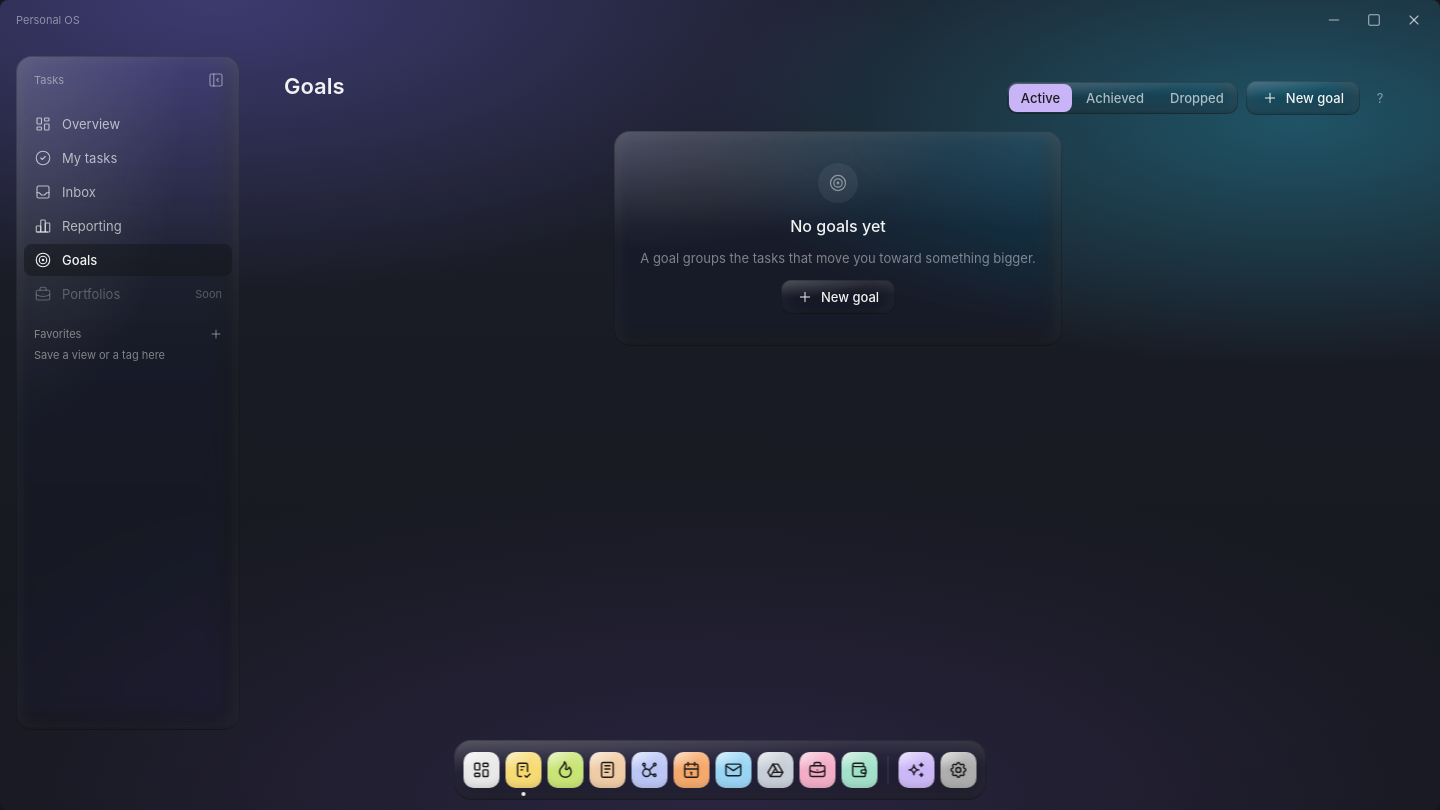
Test case: New goal dialog › refuses an empty title
Expected: the heading "No goals yet" is shown, [790,215,886,237]
Click the 1st button "New goal": (1303, 98) [1246,81,1360,115]
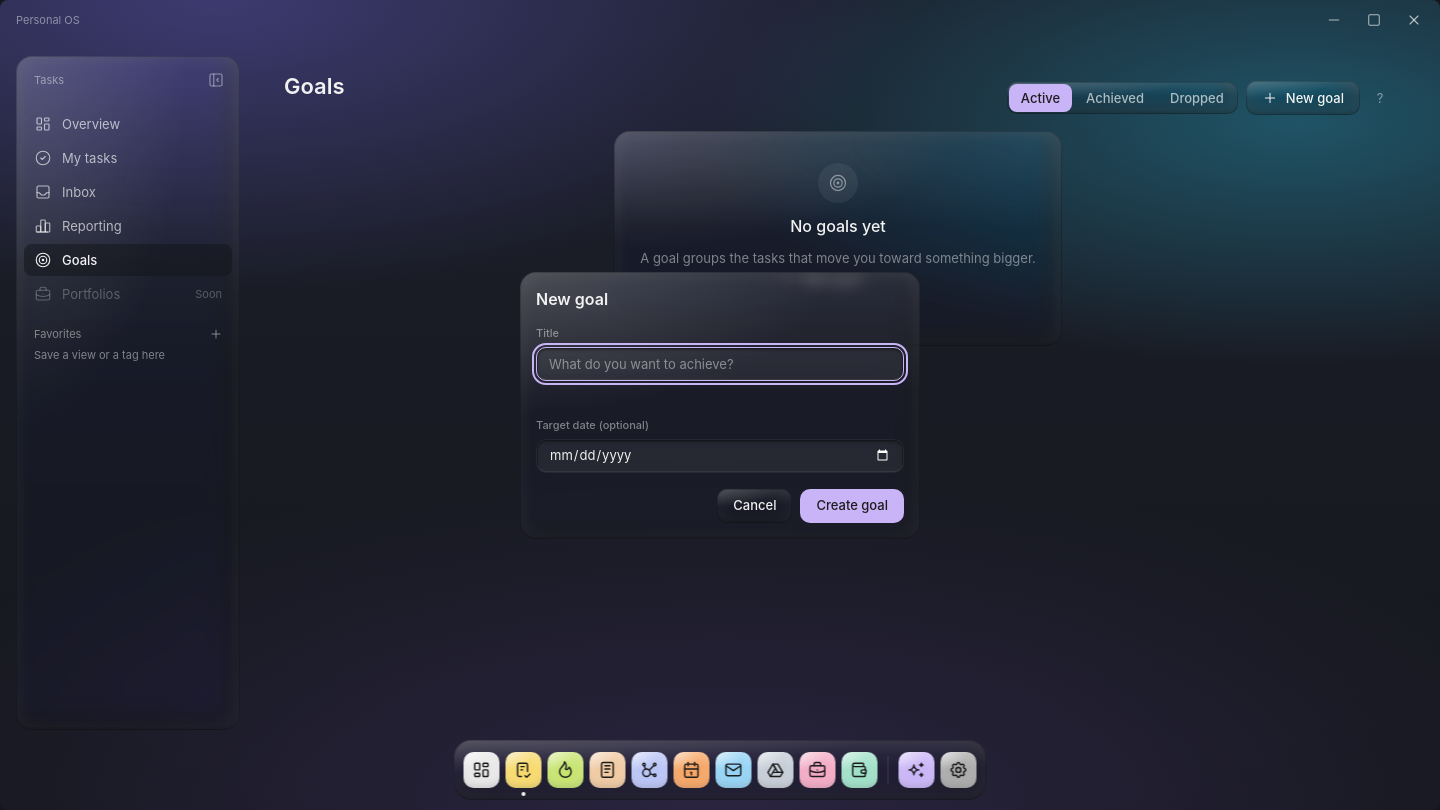
Click the button "Create goal": (852, 506) [800,488,904,522]
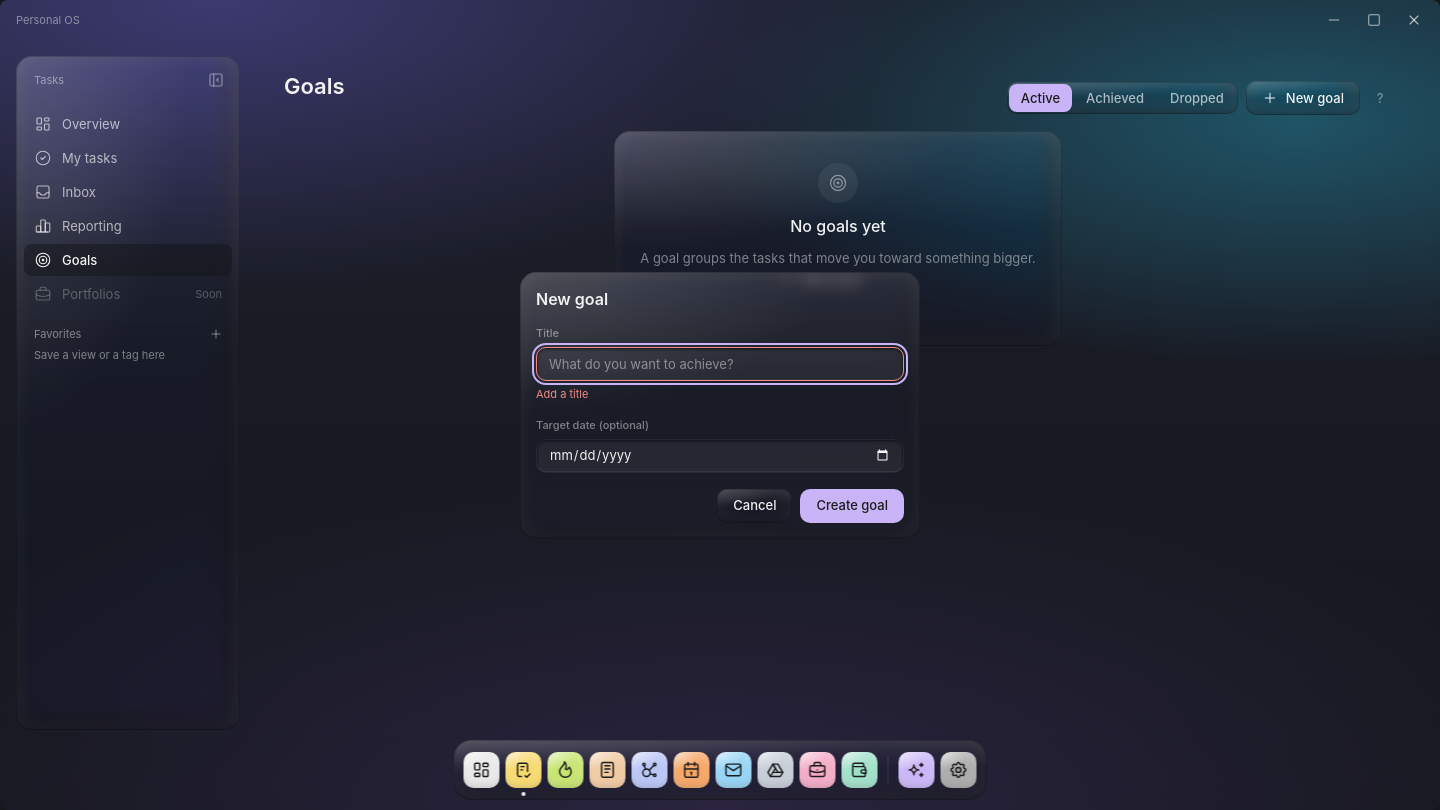
Expected: the message reads "Add a title", [536,386,588,400]
